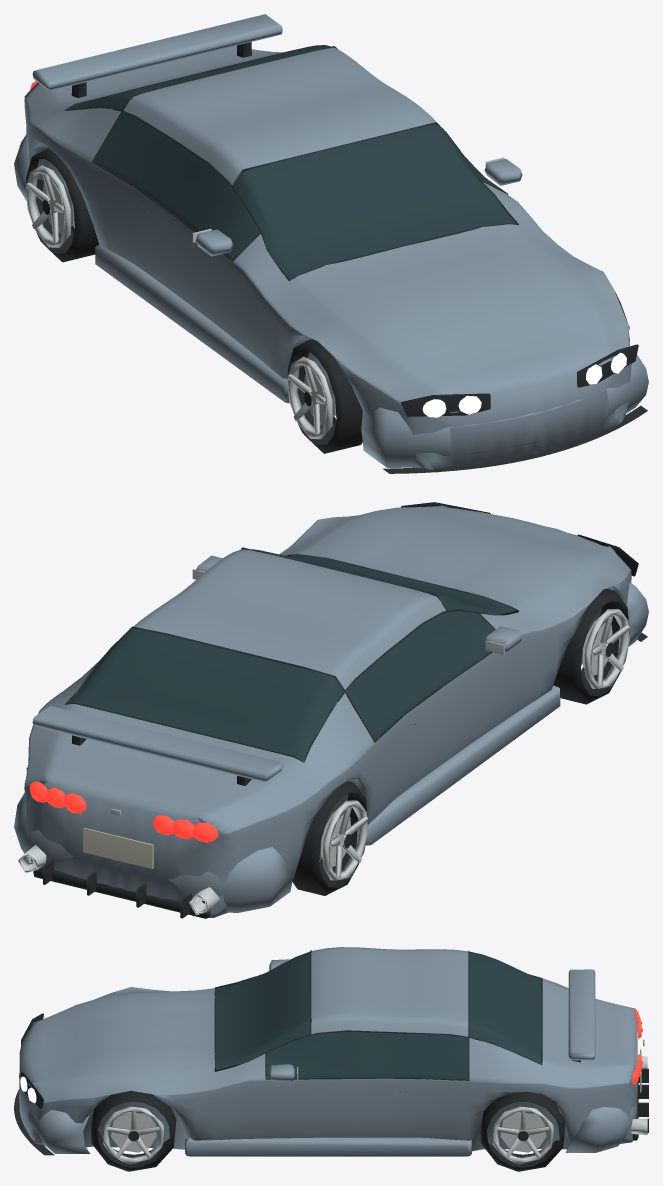
The model's file is lethari-sarnel.glb.
3 views of the same model, one above another, from view 1: azimuth 30°, elevation 25°; view 2: azimuth 150°, elevation 25°; view 3: azimuth 270°, elevation 25° (orthographic). The views are drawn at different scales.
Visible parts, largest first — view 1: scocca, cofano, cristallo_ant, tetto, porta_sx, cristallo_sx, spoiler, minigonna_sx, paraurti_ant, portellone, ruota_ant_sx_gomma, ruota_post_sx_gomma (+14 smaller); view 2: scocca, tetto, cristallo_post, cofano, portellone, porta_sx, cristallo_sx, spoiler, paraurti_post, minigonna_sx, ruota_ant_sx_gomma, ruota_post_sx_gomma (+11 smaller); view 3: scocca, cofano, tetto, porta_dx, cristallo_dx, cristallo_ant, cristallo_post, portellone, minigonna_dx, spoiler, ruota_ant_dx_gomma, ruota_post_dx_gomma (+13 smaller).
Boxes of the visible parts, bbox=[...] form: scocca: bbox=[24, 82, 631, 472]; cofano: bbox=[289, 224, 611, 386]; cristallo_ant: bbox=[233, 124, 516, 279]; tetto: bbox=[123, 47, 435, 184]; porta_sx: bbox=[92, 163, 248, 349]; cristallo_sx: bbox=[94, 112, 259, 259]; spoiler: bbox=[32, 14, 282, 90]; minigonna_sx: bbox=[95, 244, 289, 403]; paraurti_ant: bbox=[361, 354, 648, 467]; portellone: bbox=[42, 46, 282, 110]; ruota_ant_sx_gomma: bbox=[287, 339, 362, 453]; ruota_post_sx_gomma: bbox=[26, 148, 99, 262]; scocca: bbox=[24, 505, 631, 917]; tetto: bbox=[133, 549, 446, 689]; cristallo_post: bbox=[66, 628, 344, 761]; cofano: bbox=[293, 507, 610, 611]; portellone: bbox=[39, 704, 303, 822]; porta_sx: bbox=[368, 644, 518, 823]; cristallo_sx: bbox=[346, 610, 494, 740]; spoiler: bbox=[32, 706, 282, 782]; paraurti_post: bbox=[14, 793, 293, 912]; minigonna_sx: bbox=[365, 685, 560, 845]; ruota_ant_sx_gomma: bbox=[553, 588, 629, 704]; ruota_post_sx_gomma: bbox=[292, 781, 368, 895]; scocca: bbox=[19, 978, 637, 1151]; cofano: bbox=[42, 988, 214, 1086]; tetto: bbox=[311, 947, 468, 1036]; porta_dx: bbox=[250, 1078, 468, 1140]; cristallo_dx: bbox=[266, 1031, 468, 1079]; cristallo_ant: bbox=[215, 951, 310, 1070]; cristallo_post: bbox=[469, 951, 541, 1064]; portellone: bbox=[542, 979, 637, 1072]; minigonna_dx: bbox=[185, 1137, 471, 1156]; spoiler: bbox=[568, 969, 595, 1060]; ruota_ant_dx_gomma: bbox=[91, 1091, 176, 1171]; ruota_post_dx_gomma: bbox=[480, 1092, 565, 1171].
Bounding box in the file's own units: 2.13 × 1.21 × 5.02.
